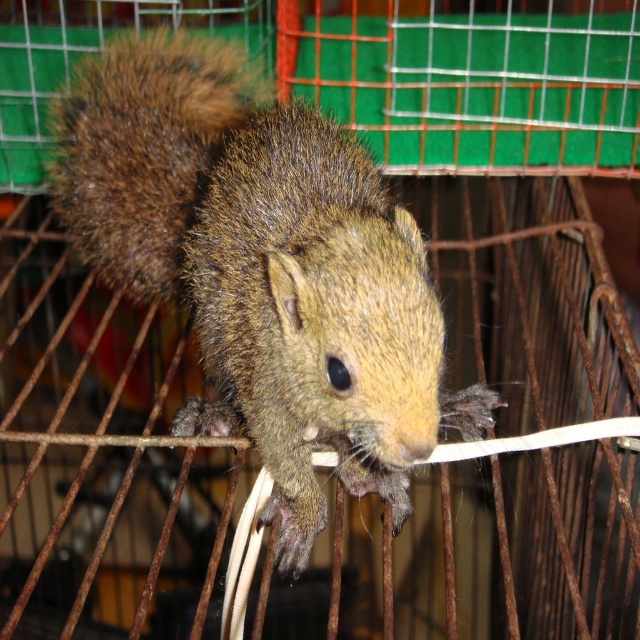Squirrel: (42, 21, 569, 587)
